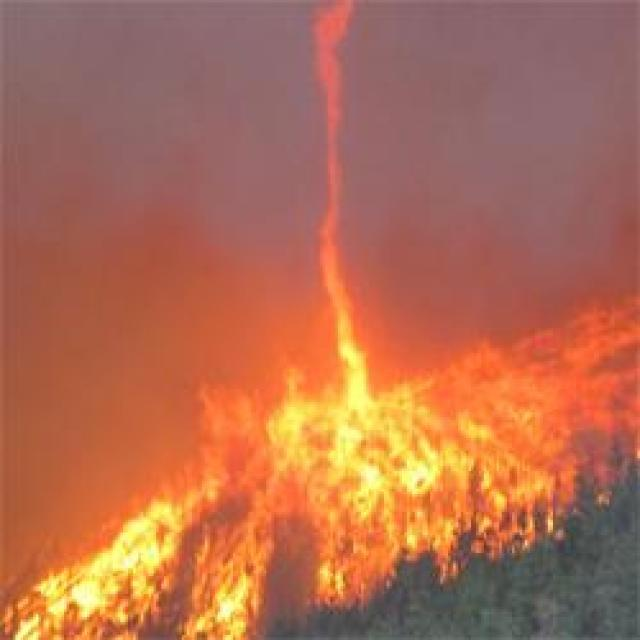Fire: (65, 324, 640, 640), (306, 21, 403, 398), (296, 360, 465, 534), (33, 492, 219, 622)
Smoke: (0, 8, 292, 350), (411, 27, 619, 319)
